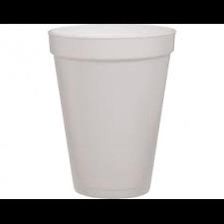paper_cup: (43, 23, 180, 199)
